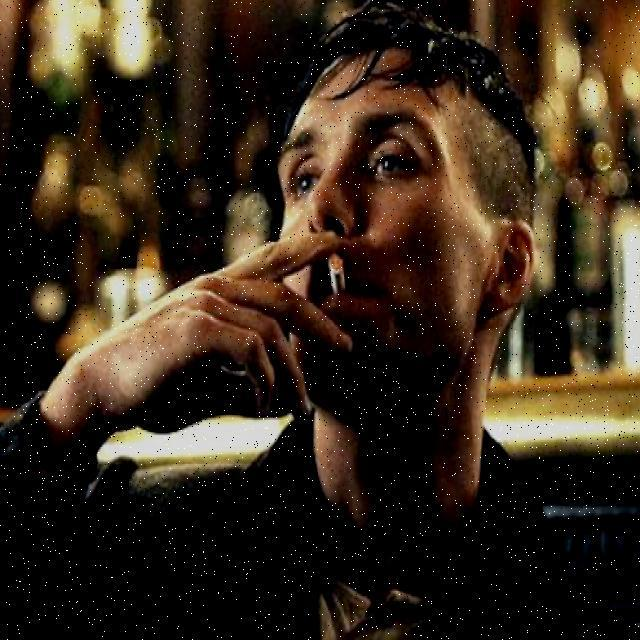face_no_mask: (279, 46, 536, 381)
